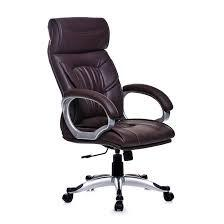chair: (47, 16, 178, 210)
